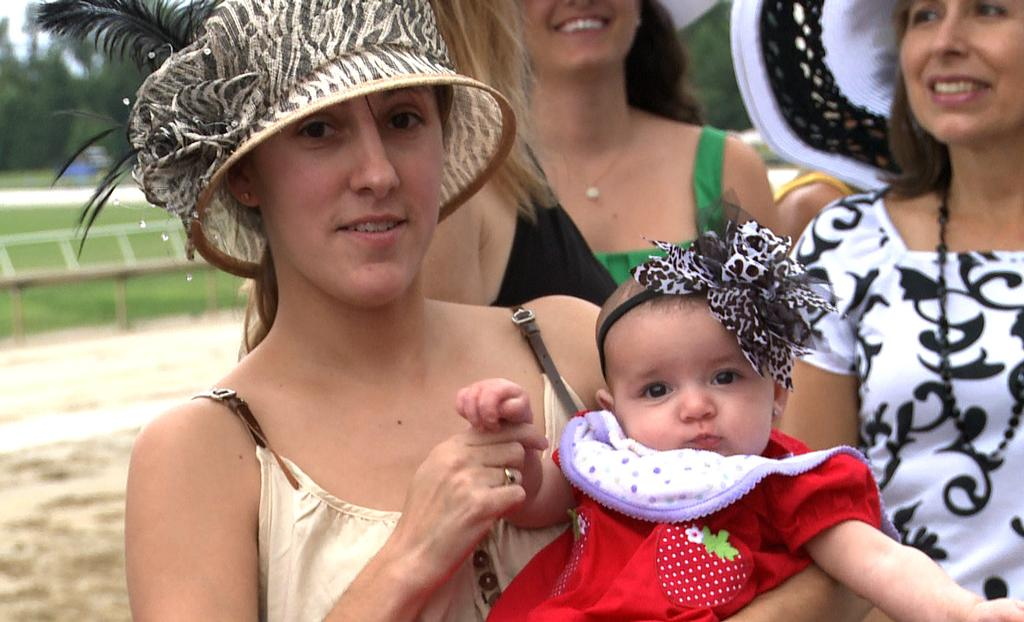Hat: (25, 0, 518, 279), (728, 0, 910, 191)
